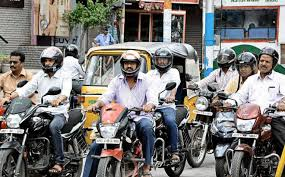helmet: (119, 49, 145, 79), (39, 46, 64, 72), (236, 50, 258, 77), (258, 47, 280, 73), (153, 48, 174, 71), (216, 47, 236, 68)
